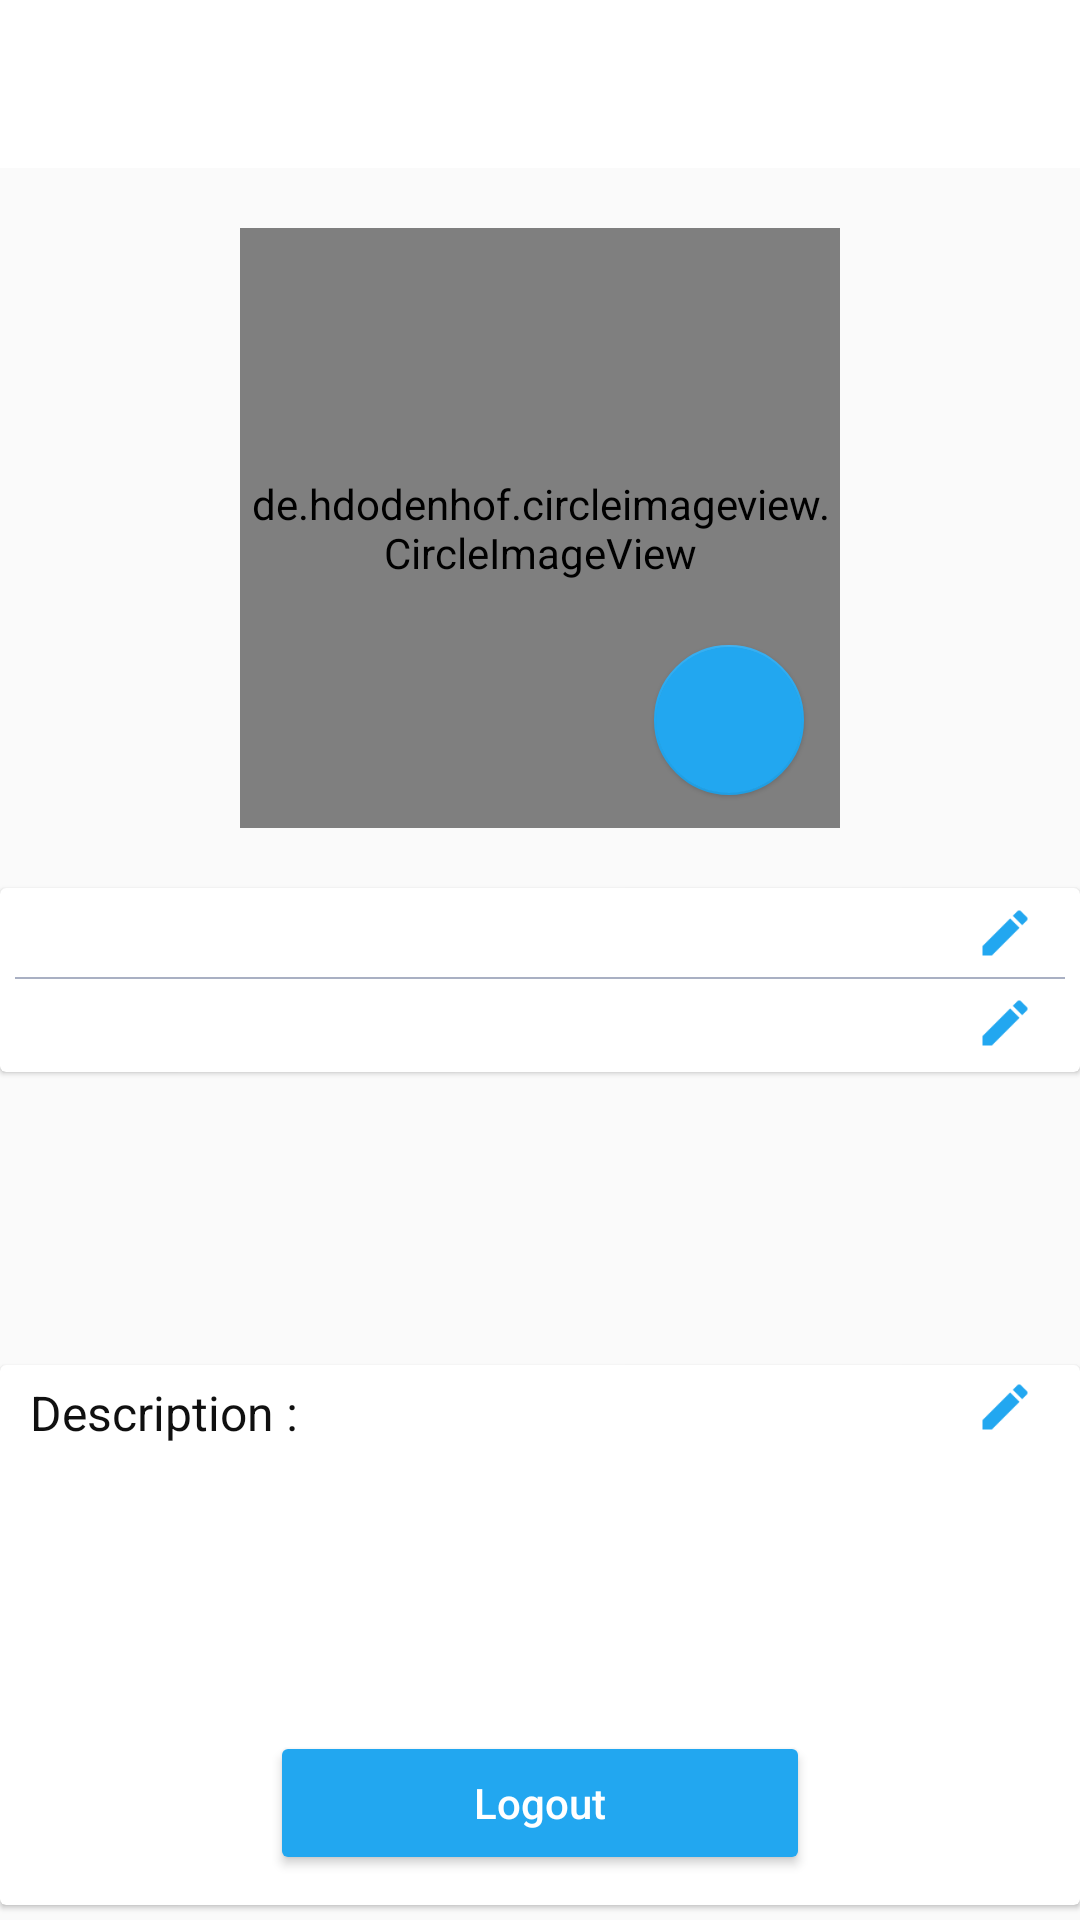

Icon bounding boxes for this 1080×1920 phone screenshot, format (x1, y1, x2, y2):
edit: (982, 910, 1028, 956), (982, 1000, 1028, 1046), (982, 1384, 1028, 1430)
